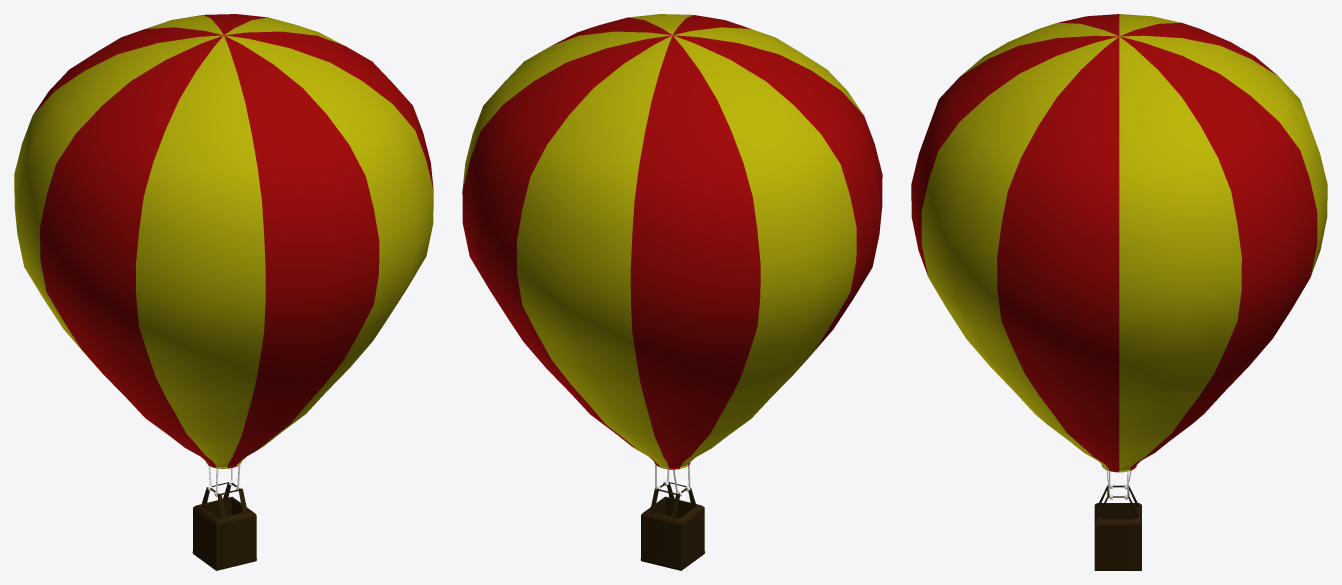
File: air-ballon.glb
3 views of the same model, side by side, from view 1: azimuth 30°, elevation 25°; view 2: azimuth 150°, elevation 25°; view 3: azimuth 270°, elevation 25° (orthographic).
Parts seen in each view (by area): view 1: polySurface13; view 2: polySurface13; view 3: polySurface13.
Boxes of the visible parts, bbox=[...] form: polySurface13: bbox=[14, 14, 433, 570]; polySurface13: bbox=[462, 14, 882, 570]; polySurface13: bbox=[911, 14, 1327, 570].
Size of the model in its own units: 0.1321 by 0.1793 by 0.1288.
